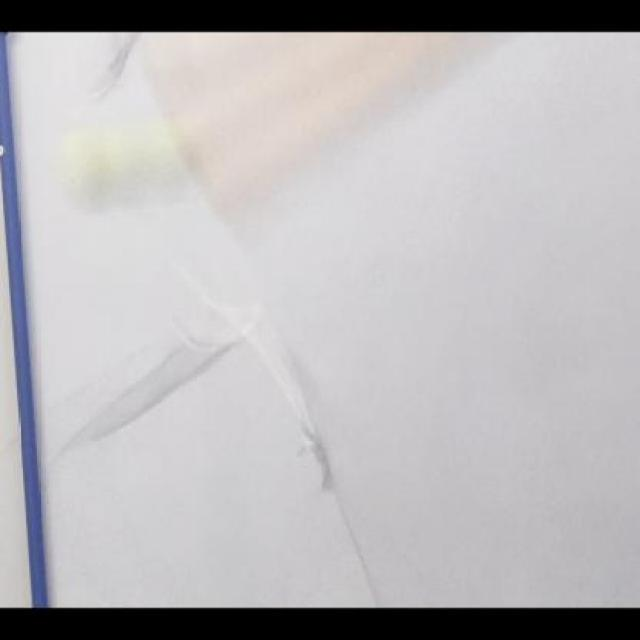baseball: (59, 116, 175, 207)
